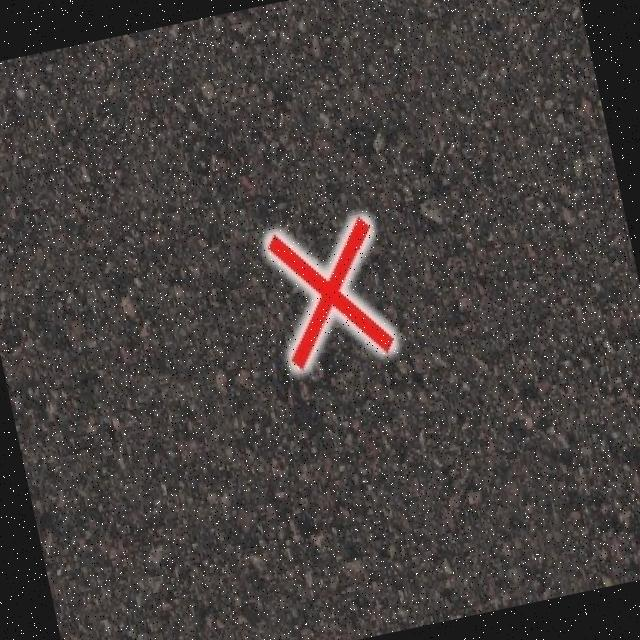x_marker: (264, 214, 394, 368)
